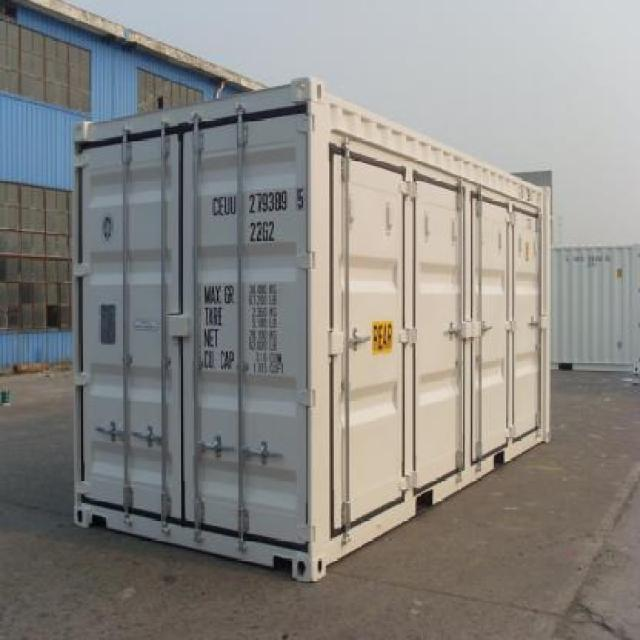ISO: (248, 221, 277, 241)
container_number: (209, 191, 302, 216)
